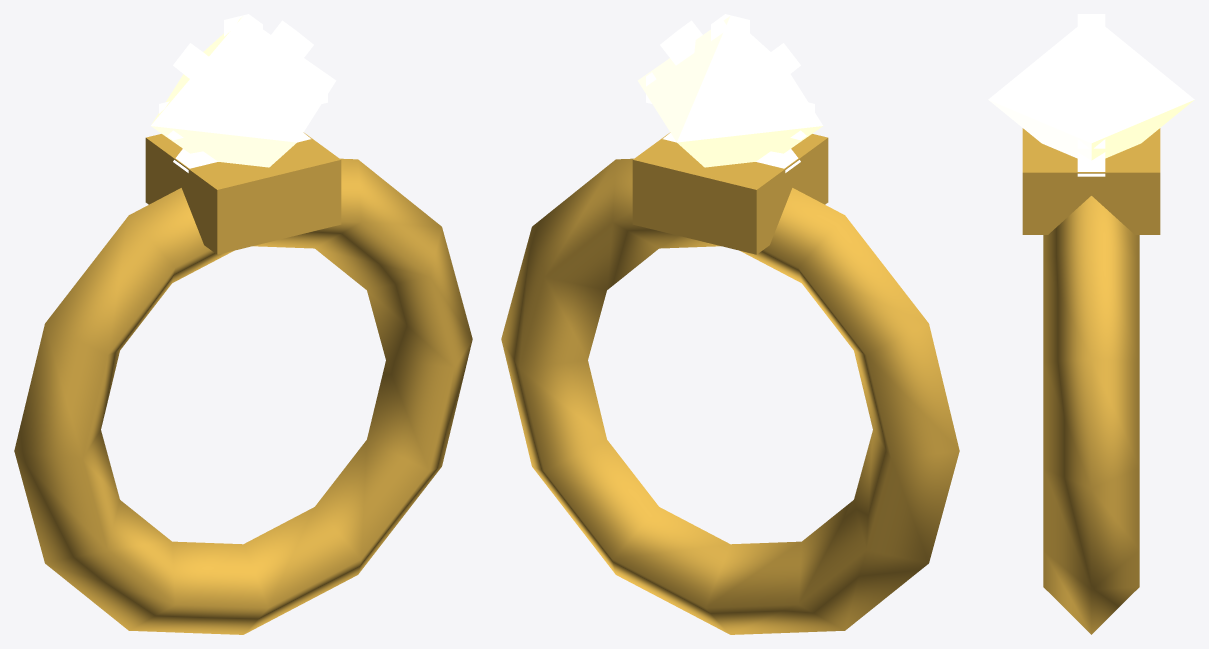
File: ring_t4.glb
3 renders of one model, left to right at view 1: azimuth 30°, elevation 25°; view 2: azimuth 150°, elevation 25°; view 3: azimuth 270°, elevation 25°, orthographic. The views are drawn at different scales.
Visible parts, largest first — view 1: item_ringBand4, item_ringGem4, item_starRay; view 2: item_ringBand4, item_ringGem4, item_starRay; view 3: item_ringBand4, item_ringGem4, item_starRay.
Part boxes in pixels (x1=…): item_ringBand4: x1=14, y1=132, x2=472, y2=634; item_ringGem4: x1=151, y1=16, x2=336, y2=167; item_starRay: x1=159, y1=14, x2=327, y2=172; item_ringBand4: x1=501, y1=132, x2=959, y2=634; item_ringGem4: x1=637, y1=16, x2=822, y2=167; item_starRay: x1=646, y1=14, x2=814, y2=172; item_ringBand4: x1=1022, y1=128, x2=1160, y2=634; item_ringGem4: x1=988, y1=15, x2=1194, y2=160; item_starRay: x1=1077, y1=14, x2=1105, y2=176.
Bounding box in the file's own units: 0.2072 × 0.2674 × 0.084.
